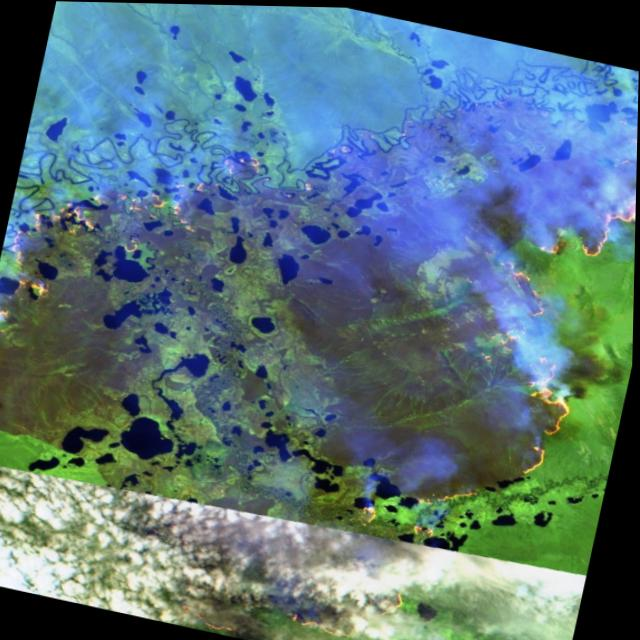fire: (0, 104, 271, 446), (444, 79, 639, 494), (343, 456, 490, 549)
